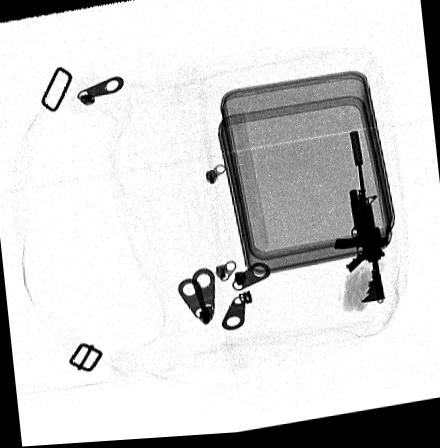Gun: (333, 134, 391, 312)
